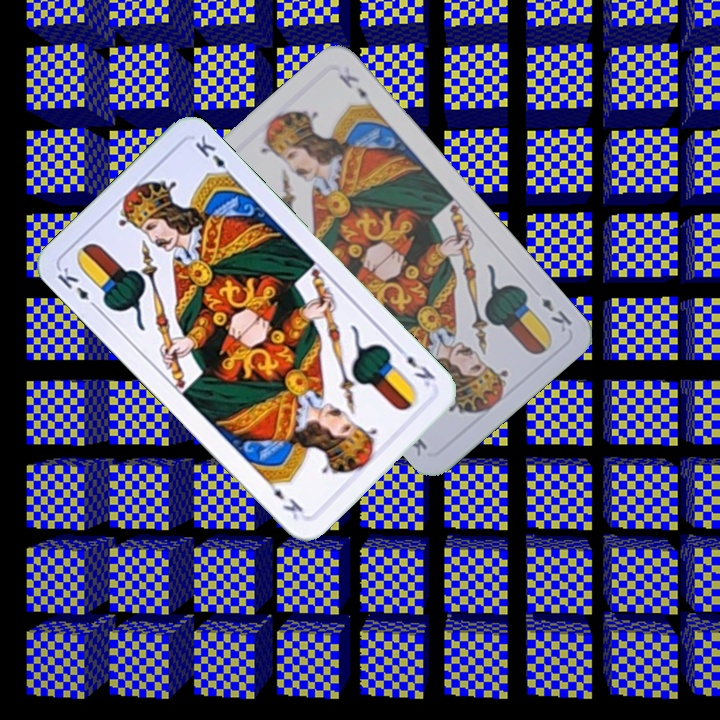EK: (52, 263, 102, 313), (392, 342, 438, 390), (537, 293, 575, 335)
